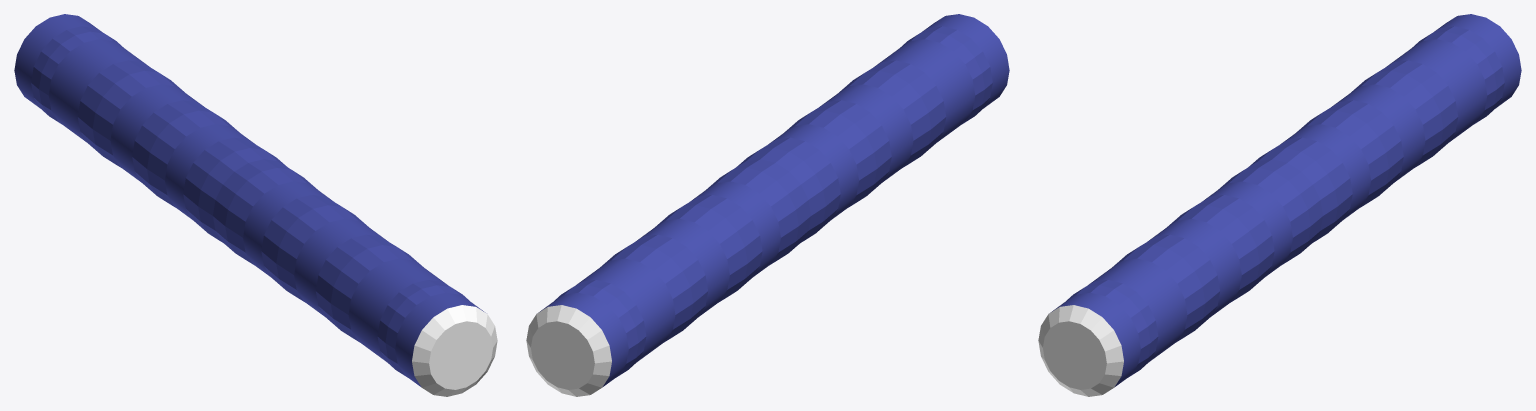
File: SM_sweet_02.fbx
3 views of the same model, side by side, from view 1: azimuth 30°, elevation 25°; view 2: azimuth 150°, elevation 25°; view 3: azimuth 330°, elevation 25° (orthographic).
Parts seen in each view (by area): view 1: sweet_02; view 2: sweet_02; view 3: sweet_02.
Part boxes in pixels (x1=…): sweet_02: x1=14, y1=14, x2=497, y2=396; sweet_02: x1=526, y1=14, x2=1009, y2=396; sweet_02: x1=1038, y1=14, x2=1521, y2=396.
Size of the model in its own units: 7.14 by 7.03 by 57.16.
